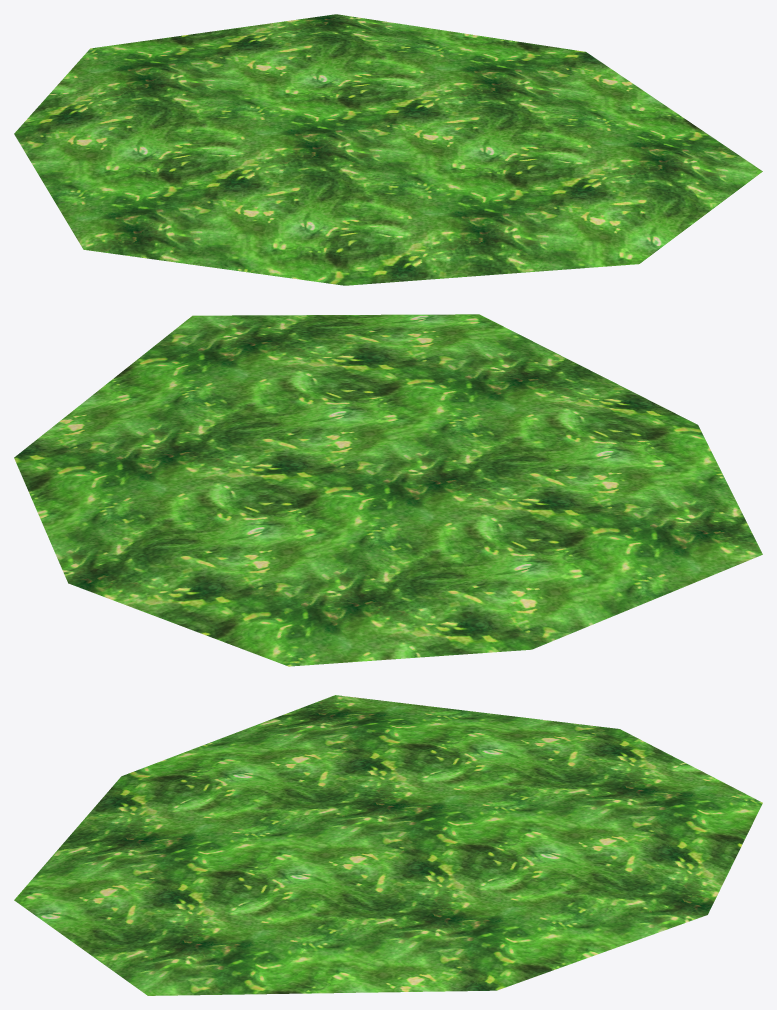
File: toxic_puddle_2.fbx
3 renders of one model, top to bottom at view 1: azimuth 30°, elevation 25°; view 2: azimuth 150°, elevation 25°; view 3: azimuth 270°, elevation 25°, orthographic. The views are drawn at different scales.
Visible parts, largest first — view 1: polySurface64; view 2: polySurface64; view 3: polySurface64.
Part boxes in pixels (box(x1,y1,x2,y2)): polySurface64: box(14, 14, 762, 285); polySurface64: box(14, 314, 762, 666); polySurface64: box(14, 695, 762, 995).
Size of the model in its own units: 11.51 by 0.3848 by 12.11.
